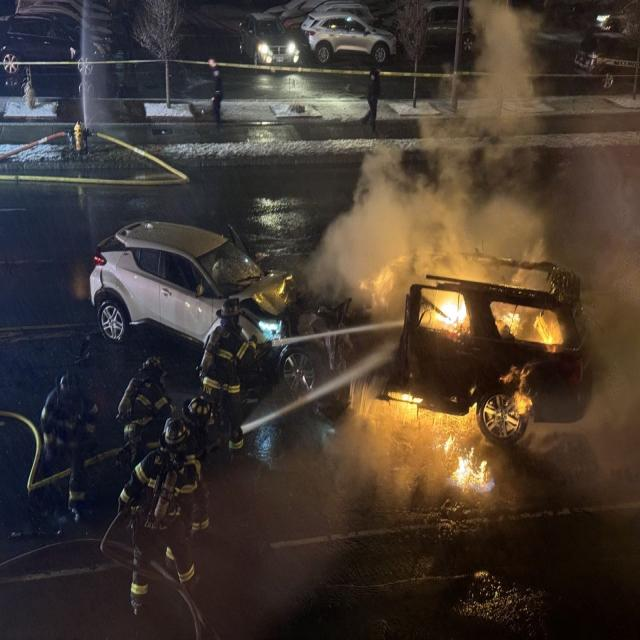car-serious-accident: (81, 195, 628, 478)
